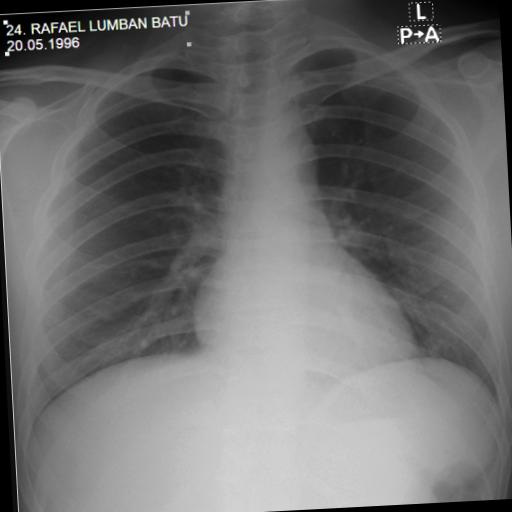normal: (0, 0, 512, 457)
